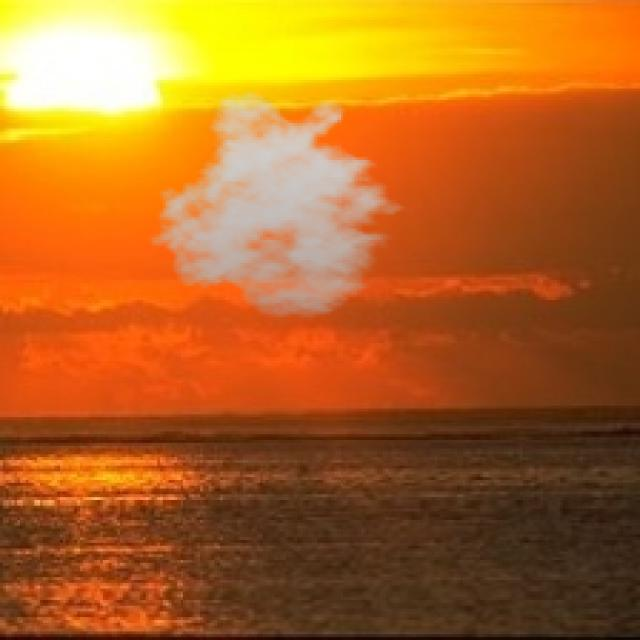smoke: (149, 91, 420, 320)
